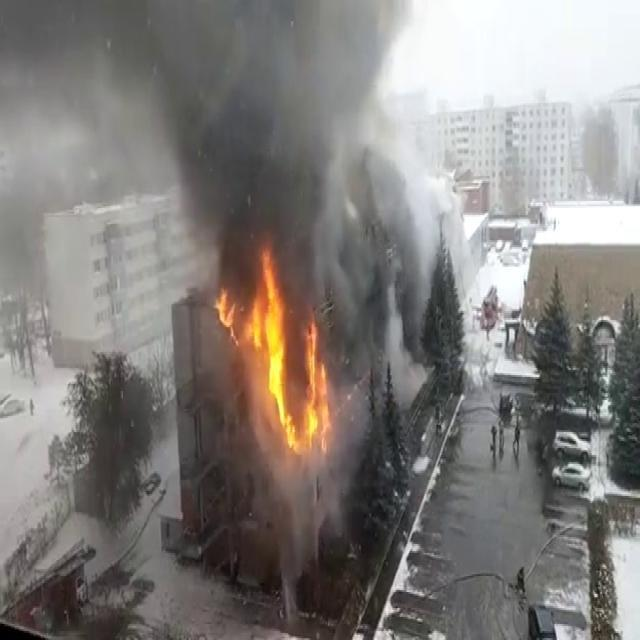Fire: (215, 246, 334, 462)
Smoke: (0, 1, 444, 296)
